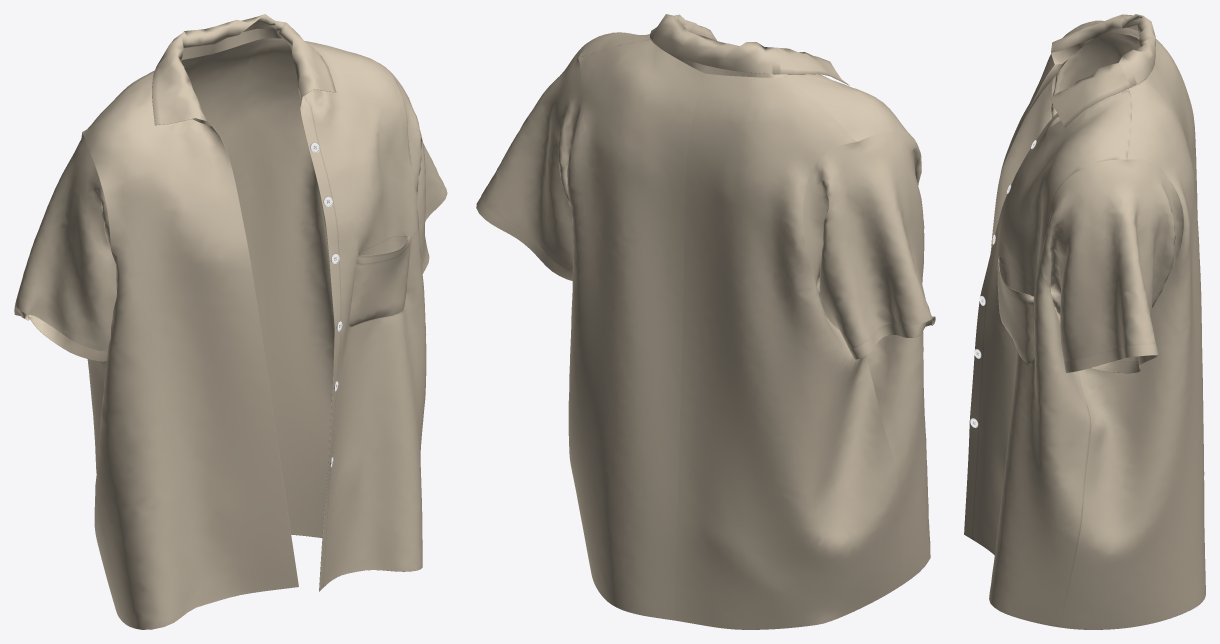
File: FLG_000005.fbx
3 views of the same model, side by side, from view 1: azimuth 30°, elevation 25°; view 2: azimuth 150°, elevation 25°; view 3: azimuth 270°, elevation 25° (orthographic). The views are drawn at different scales.
Visible parts, largest first — view 1: FLG_000005; view 2: FLG_000005; view 3: FLG_000005.
Boxes of the visible parts, left/top/right/bottom form: FLG_000005: left=14, top=14, right=447, bottom=629; FLG_000005: left=476, top=14, right=935, bottom=629; FLG_000005: left=964, top=14, right=1205, bottom=629.
Size of the model in its own units: 61.69 by 75.55 by 30.39.
